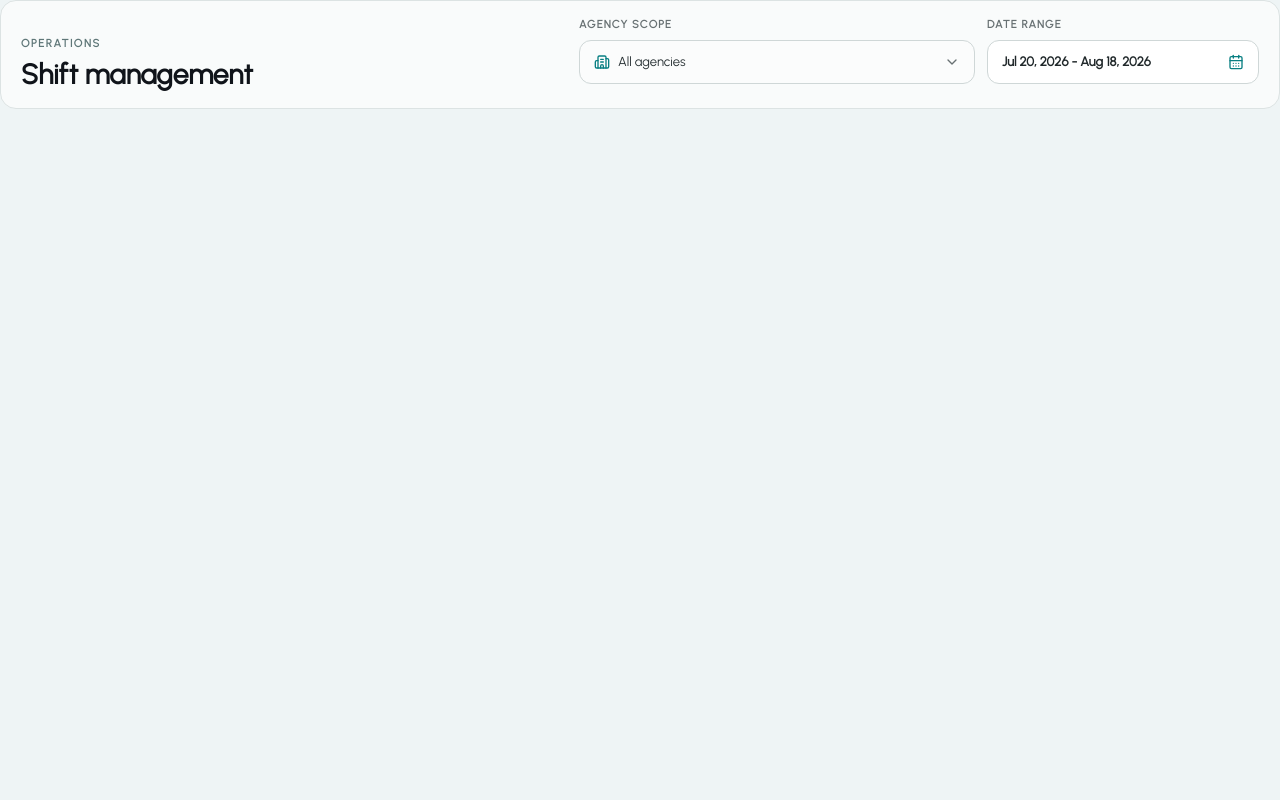
Test: ShiftManagementHeader › opens the Billing date-range dialog
Step 1. Click the button with aria-label "Change shift date range" → point(1123, 62), box x1=987 y1=40 x2=1259 y2=84
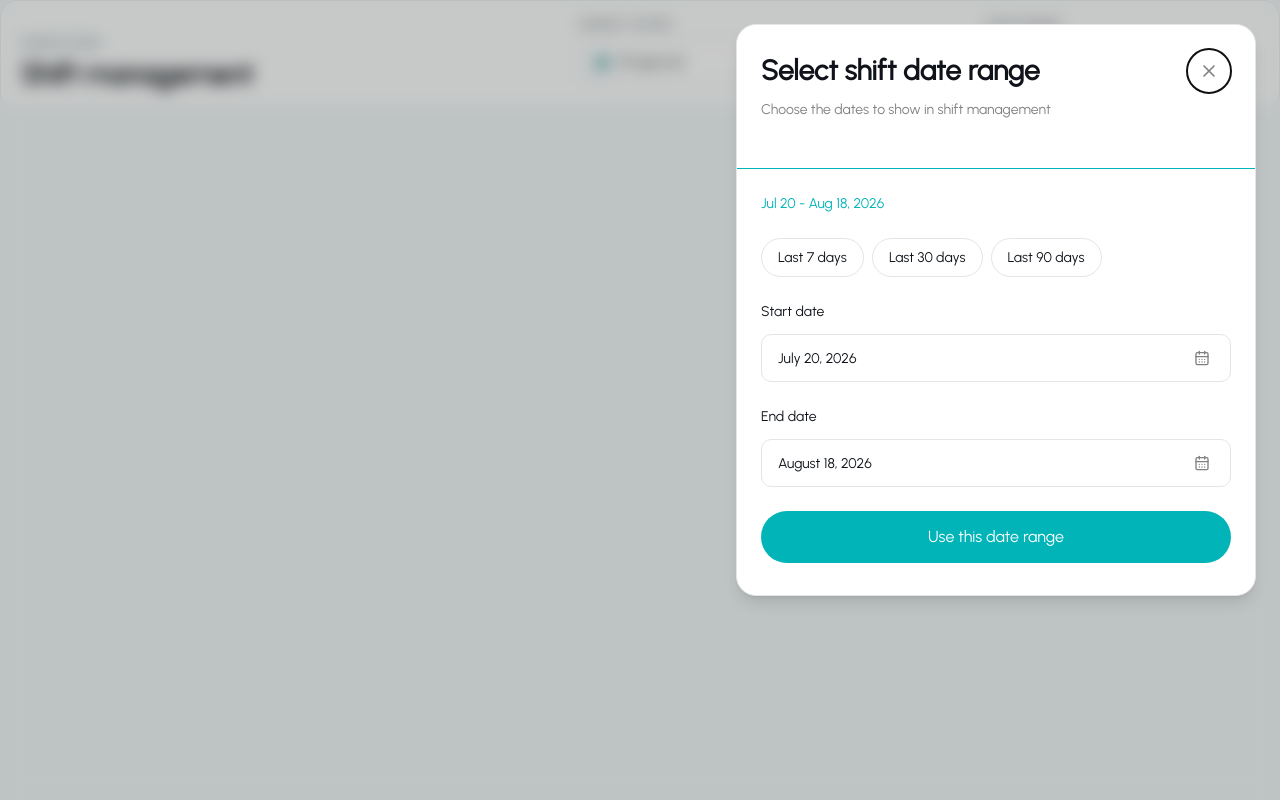
Expected: the dialog is shown, x1=736 y1=24 x2=1256 y2=596
Expected: the heading "Select shift date range" is shown, x1=761 y1=53 x2=1040 y2=87
Expected: the button "Use this date range" is shown, x1=761 y1=511 x2=1231 y2=563
